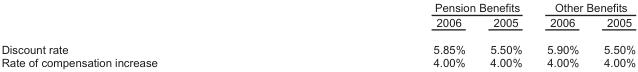table: (0, 0, 635, 69)
table column: (0, 0, 294, 69), (294, 0, 477, 69), (533, 0, 590, 69), (477, 0, 533, 69), (590, 0, 635, 69)
table column header: (0, 0, 635, 35)
table row: (0, 14, 635, 35), (0, 35, 635, 55), (0, 0, 635, 14), (0, 55, 635, 69)
table spanning cell: (294, 0, 533, 14), (533, 0, 635, 14)
